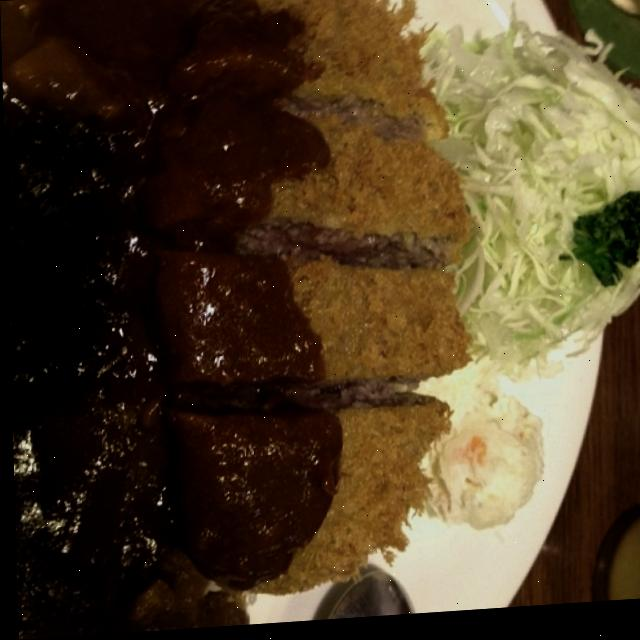炸货点心: (32, 0, 633, 633)
